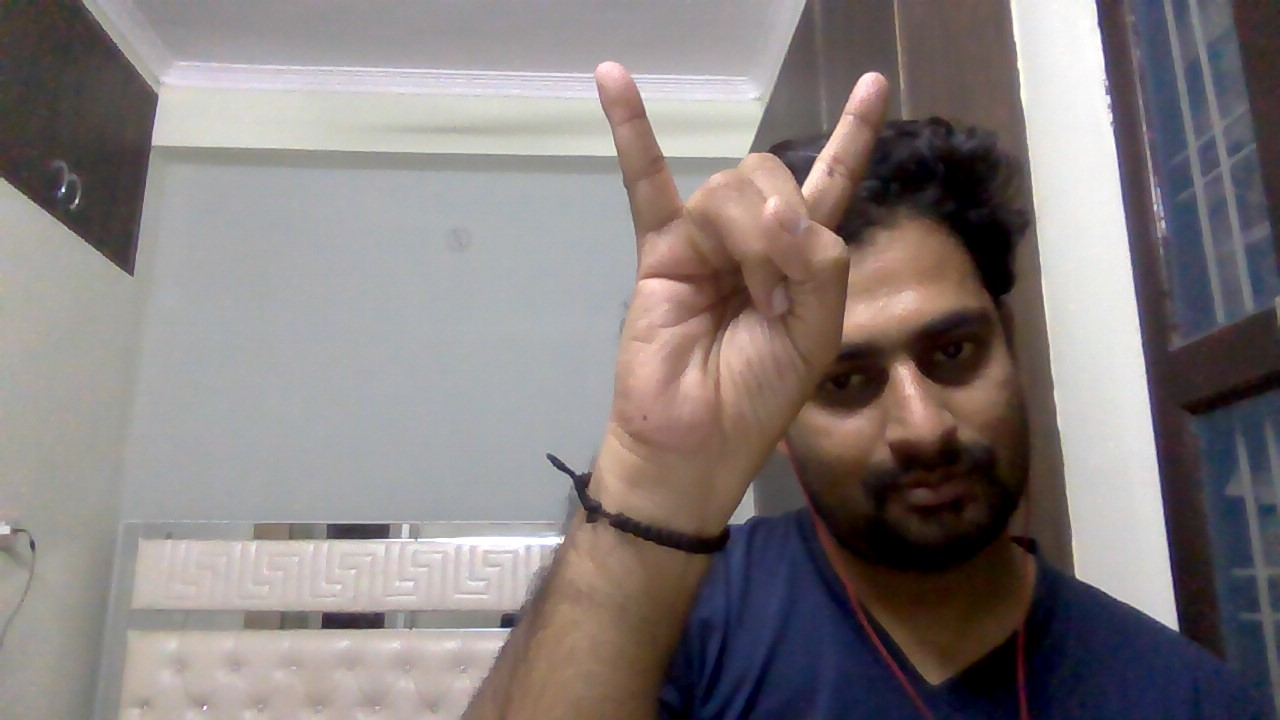Select All: (580, 52, 901, 478)
